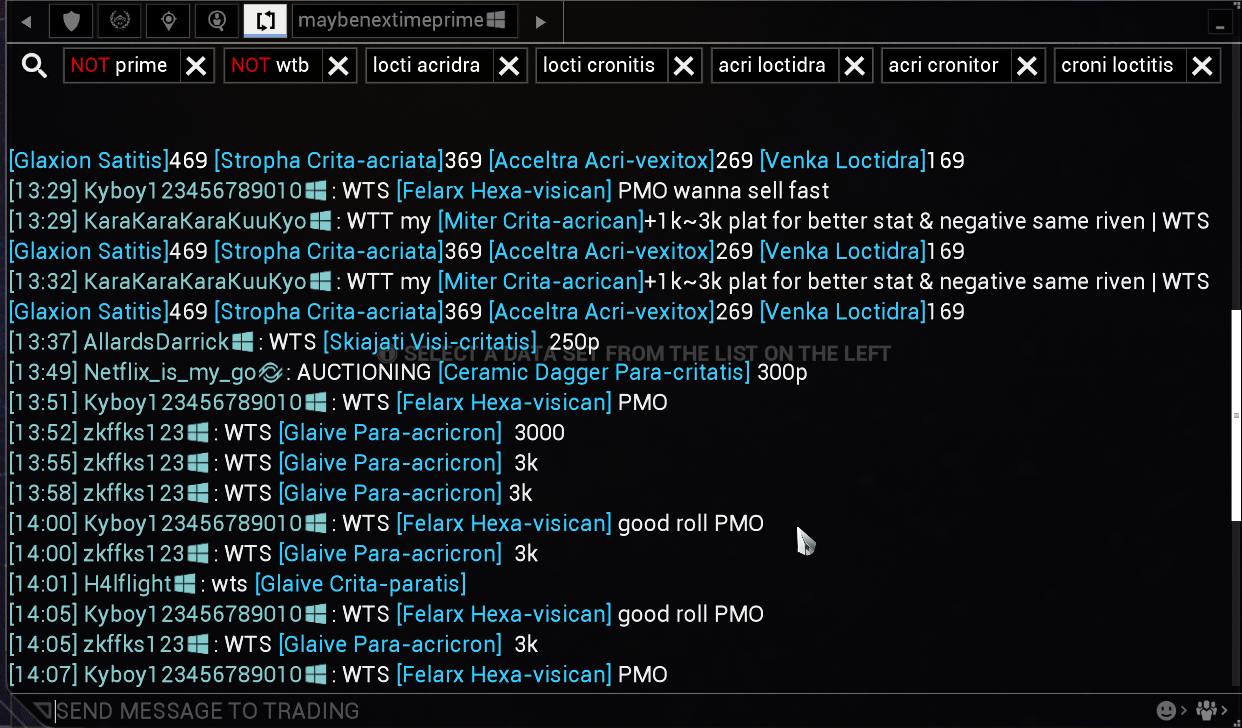link: (438, 357, 752, 391), (279, 418, 503, 453), (489, 235, 717, 269), (277, 539, 504, 573), (487, 145, 717, 177), (396, 659, 615, 692), (277, 631, 504, 662), (277, 449, 504, 480), (213, 298, 446, 328), (213, 147, 446, 177), (486, 297, 716, 327), (321, 327, 539, 358), (277, 480, 504, 509), (394, 599, 613, 629), (396, 176, 613, 206), (213, 236, 444, 264), (254, 569, 468, 599), (395, 510, 613, 539), (437, 267, 646, 297), (396, 389, 613, 417), (758, 296, 928, 327), (8, 146, 171, 177), (7, 298, 171, 327), (758, 145, 927, 173), (758, 237, 927, 265), (8, 238, 171, 264)
